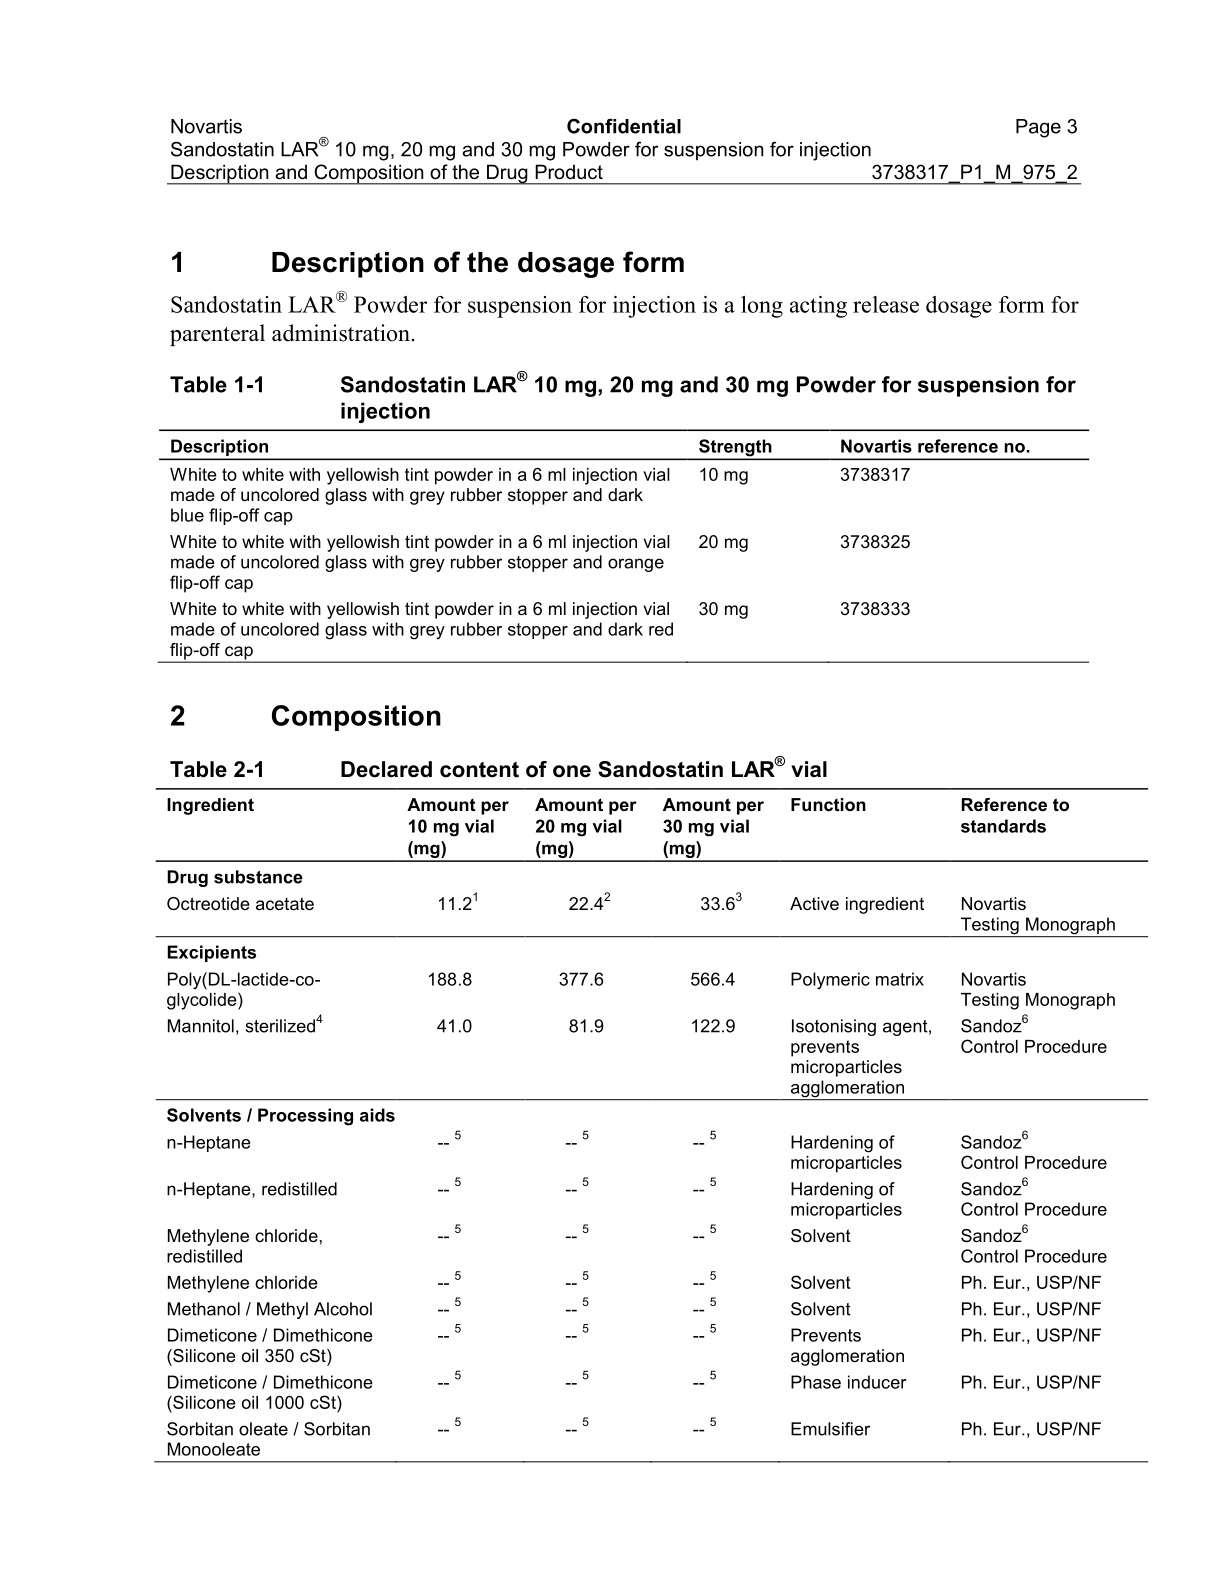partial_lined: (156, 787, 1149, 1464), (158, 428, 1092, 665)
